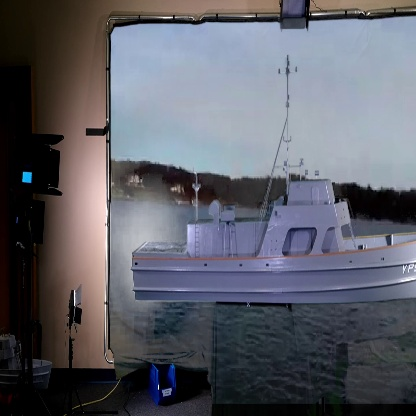YP689: (131, 45, 416, 303)
